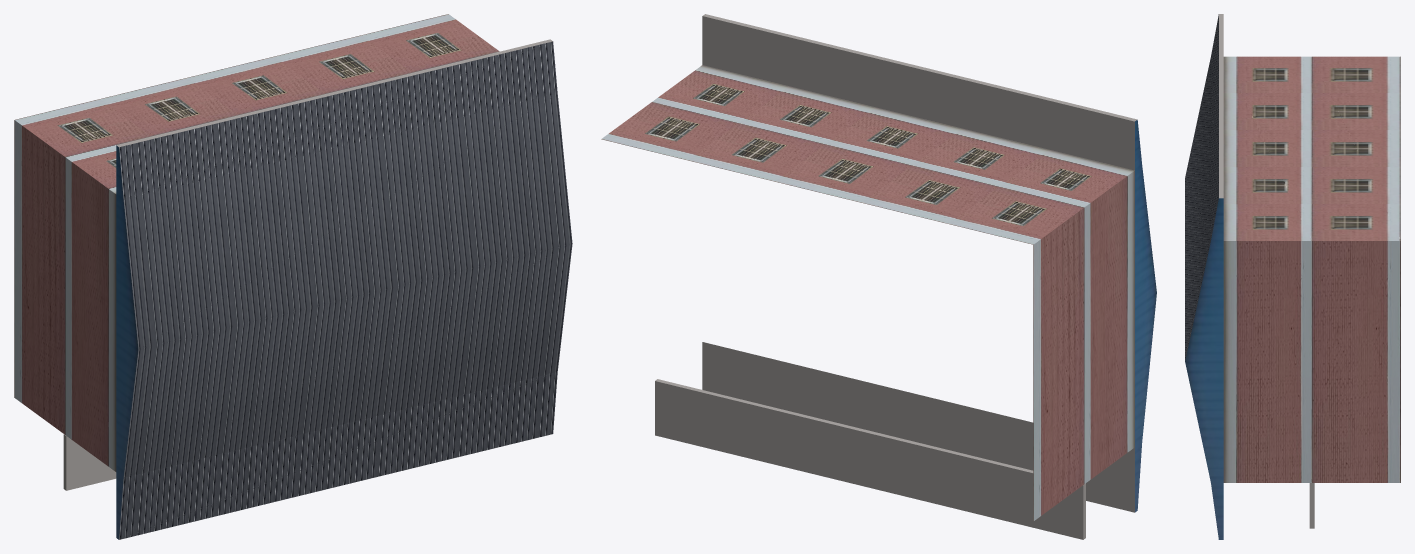
The model's file is sgy_jt_02.gltf.
3 views of the same model, side by side, from view 1: azimuth 30°, elevation 25°; view 2: azimuth 150°, elevation 25°; view 3: azimuth 270°, elevation 25° (orthographic). The views are drawn at different scales.
Parts seen in each view (by area): view 1: Box001; view 2: Box001; view 3: Box001.
Boxes of the visible parts, left/top/right/bottom form: Box001: left=14, top=14, right=572, bottom=539; Box001: left=601, top=14, right=1156, bottom=539; Box001: left=1185, top=14, right=1400, bottom=539.
Bounding box in the file's own units: 51.23 × 44.23 × 25.31.
9 materials, 9 textured.
